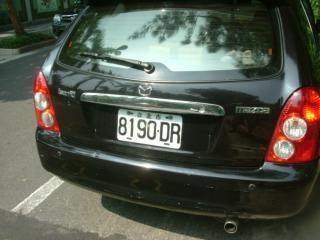plate: (115, 107, 186, 153)
